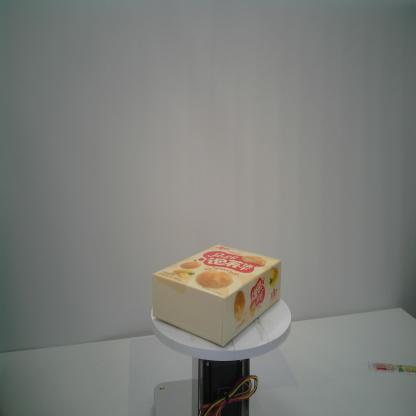Dessert: (152, 243, 282, 348)
